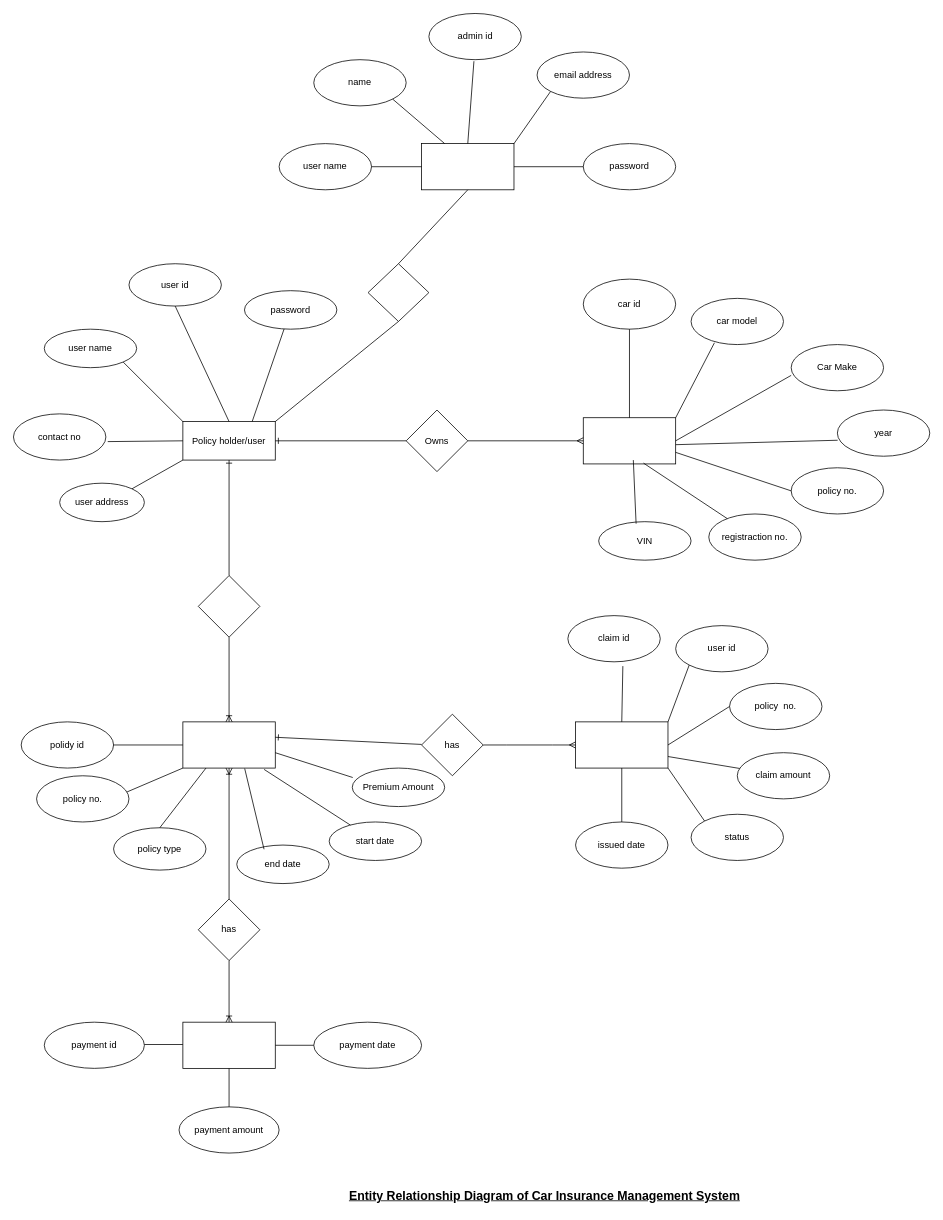
Image size: 943x1220. Some labels were removed from this diagram. The centre of each missing label's shape, as x and y in pixels:
"Admin" belongs at (467,166).
"buys" belongs at (229,606).
"Car" belongs at (629,440).
"claim" belongs at (621,744).
"Manages" belongs at (398,292).
"payment" belongs at (228,1044).
"policy" belongs at (228,744).
